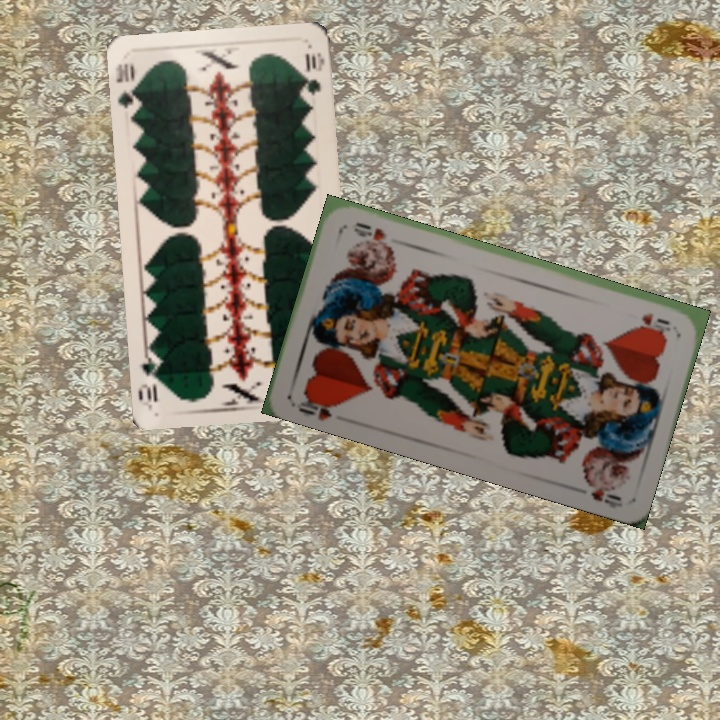G10: (112, 59, 142, 116)
HO: (294, 389, 343, 423), (637, 308, 673, 334)
